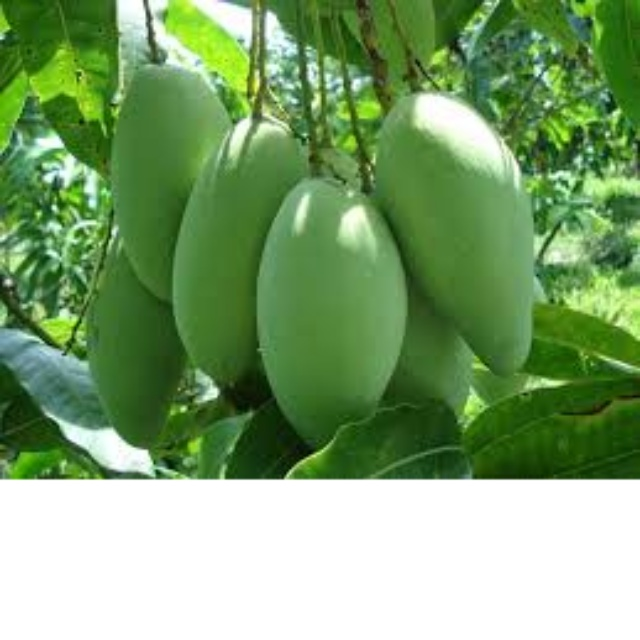thanh_long: (374, 88, 556, 375), (264, 168, 411, 437), (103, 52, 224, 301)
